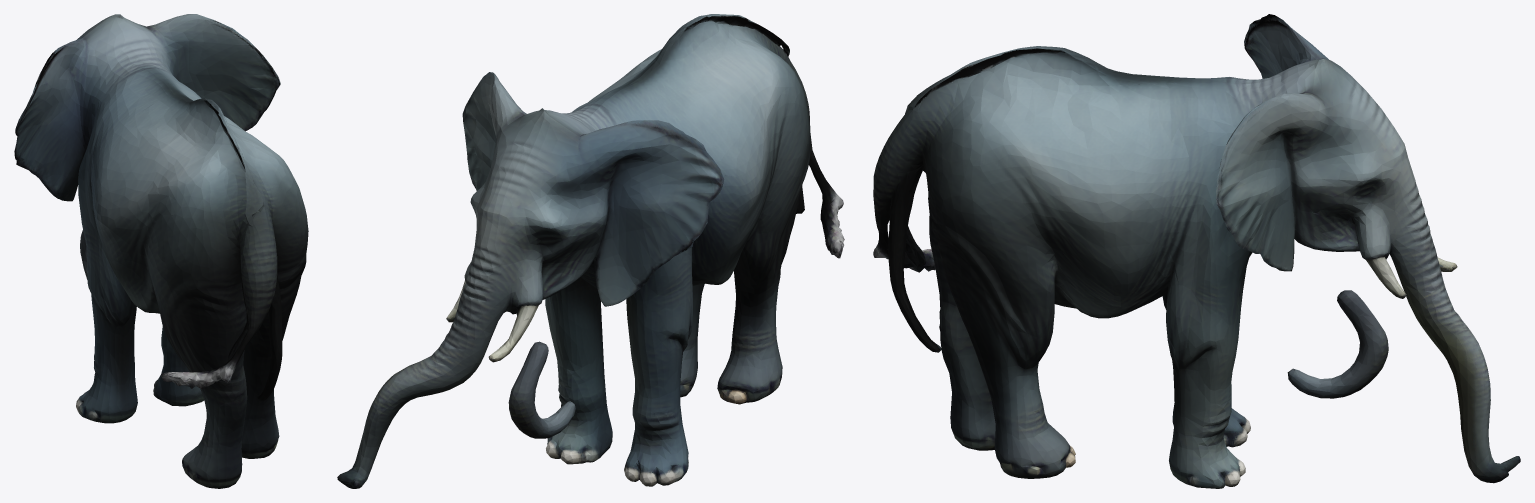
Rendered from Trellis_elephant.glb.
3 views of the same model, side by side, from view 1: azimuth 30°, elevation 25°; view 2: azimuth 150°, elevation 25°; view 3: azimuth 270°, elevation 25° (orthographic). The views are drawn at different scales.
Visible parts, largest first — view 1: world; view 2: world; view 3: world.
Part boxes in pixels (left/top/right/bottom): world: left=14, top=14, right=308, bottom=488; world: left=337, top=14, right=844, bottom=488; world: left=873, top=14, right=1520, bottom=488.
Bounding box in the file's own units: 0.5196 × 0.7007 × 0.9951.
1 material, 1 textured.
